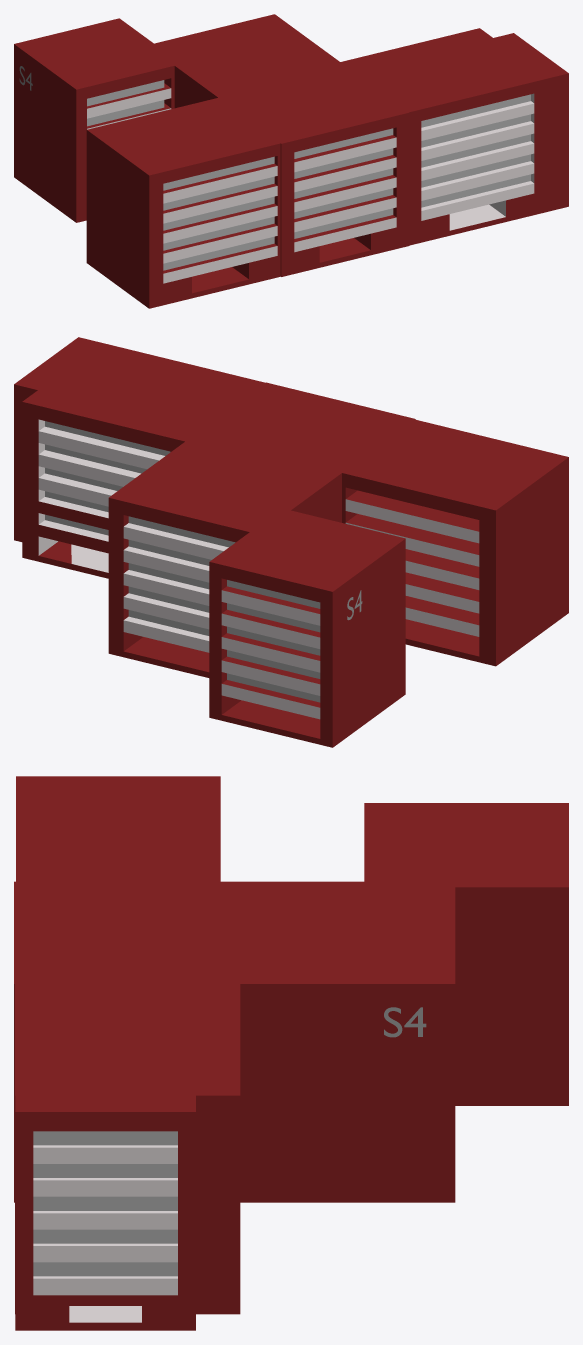
3 views of the same model, one above another, from view 1: azimuth 30°, elevation 25°; view 2: azimuth 150°, elevation 25°; view 3: azimuth 270°, elevation 25° (orthographic). The views are drawn at different scales.
Parts seen in each view (by area): view 1: Cube.001, Cube.012, Cube.003, Cube.004, Cube.011, Cube.005, Cube.008, Cube.002, Cube.007; view 2: Cube.012, Cube.001, Cube.004, Cube.003, Cube.005, Cube.018, Cube.017, Cube.009; view 3: Cube.001, Cube.004, Cube.003, Cube.005, Cube.012, Cube.006.
Boxes of the visible parts, x1,y1,x2,y2 form: Cube.001: [154, 14, 409, 276]; Cube.012: [86, 97, 280, 308]; Cube.003: [339, 28, 548, 245]; Cube.004: [14, 18, 180, 222]; Cube.011: [163, 156, 274, 270]; Cube.005: [483, 33, 568, 211]; Cube.008: [421, 94, 530, 207]; Cube.002: [294, 128, 393, 238]; Cube.007: [87, 80, 164, 126]; Cube.012: [330, 417, 568, 666]; Cube.001: [108, 382, 415, 677]; Cube.004: [209, 510, 405, 747]; Cube.003: [22, 343, 266, 578]; Cube.005: [14, 337, 113, 541]; Cube.018: [227, 580, 320, 702]; Cube.017: [128, 516, 235, 635]; Cube.009: [45, 421, 170, 535]; Cube.001: [14, 881, 455, 1202]; Cube.004: [364, 803, 568, 1105]; Cube.003: [15, 984, 240, 1314]; Cube.005: [15, 1086, 195, 1330]; Cube.012: [16, 776, 220, 890]; Cube.006: [33, 1131, 177, 1276].
Size of the model in its own units: 132 by 40 by 92.02.
